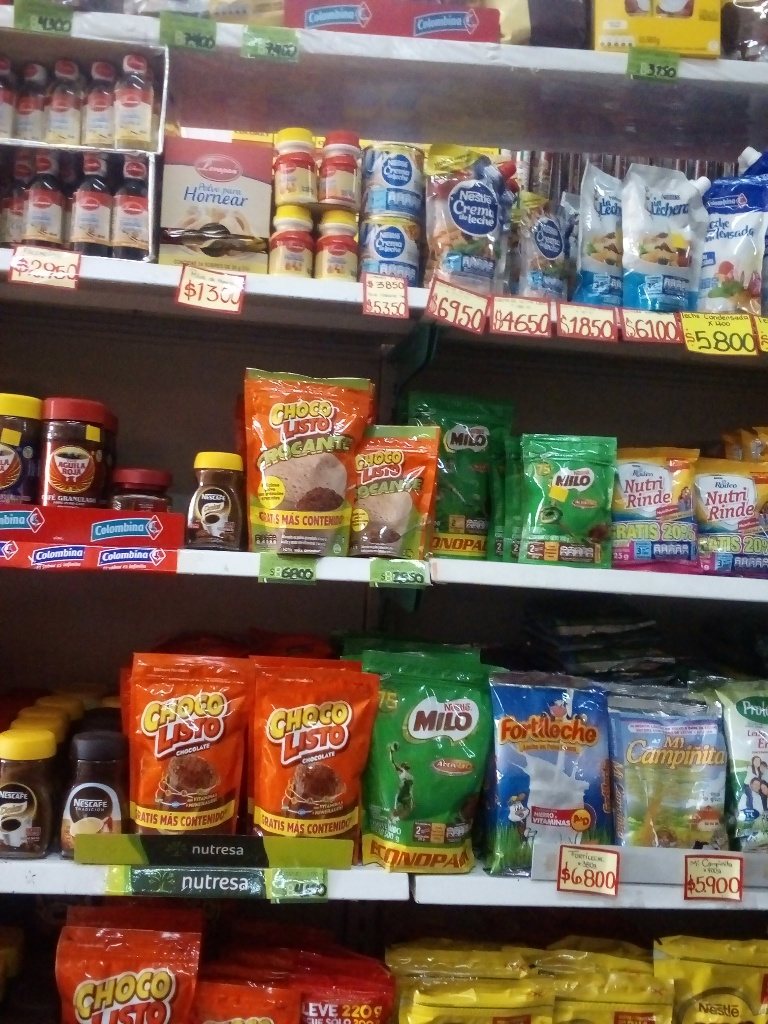COL0170102DYP10000: (346, 424, 435, 557)
COL0170102DYP50000: (242, 364, 369, 552)
COL0170103DYP44000: (128, 651, 251, 836)
COL0170203DYP10000: (522, 433, 621, 568)
COL0170203DYP25000: (407, 393, 512, 566)
COL0170203DYP50000: (363, 648, 496, 874)
